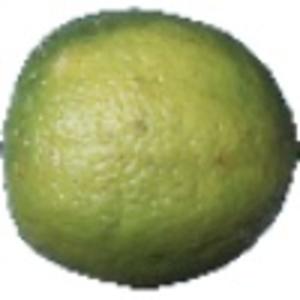limão: (1, 7, 300, 290)
